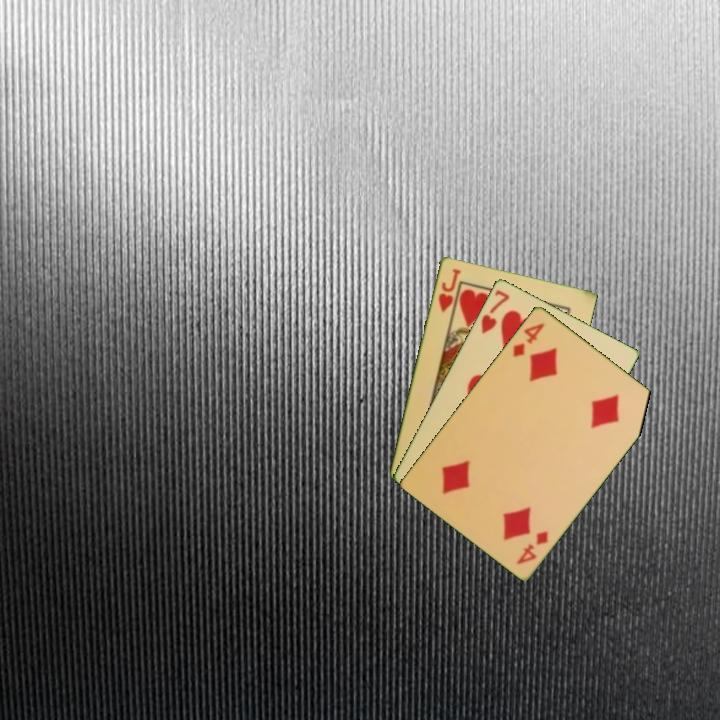4d: (513, 526, 551, 567), (509, 319, 547, 359)
7h: (477, 286, 513, 337)
Jh: (434, 265, 464, 315)
